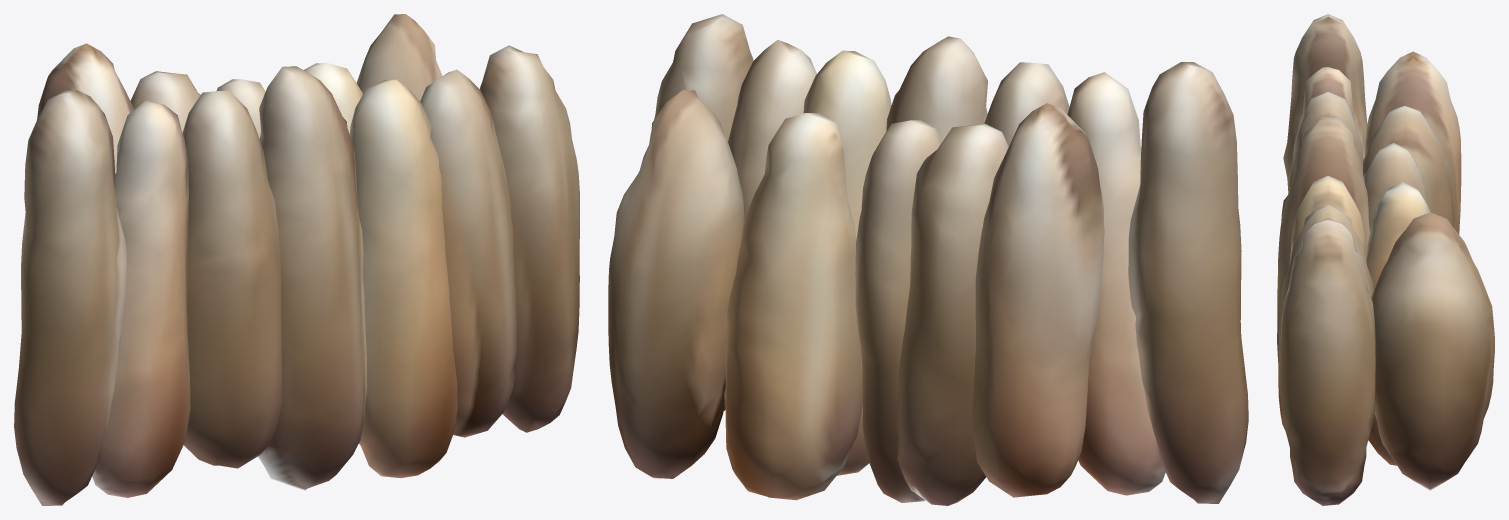
Rendered from mosquito egg.FBX.
3 renders of one model, left to right at view 1: azimuth 30°, elevation 25°; view 2: azimuth 150°, elevation 25°; view 3: azimuth 270°, elevation 25°, orthographic. The views are drawn at different scales.
Parts seen in each view (by area): view 1: Group001; view 2: Group001; view 3: Group001.
Part boxes in pixels (x1,y1,x2,y2): Group001: (14,14,579,505); Group001: (608,14,1248,505); Group001: (1277,14,1494,505).
Bounding box in the file's own units: 36.76 × 29.36 × 17.23.
Materials: 1 (1 with a texture image).
